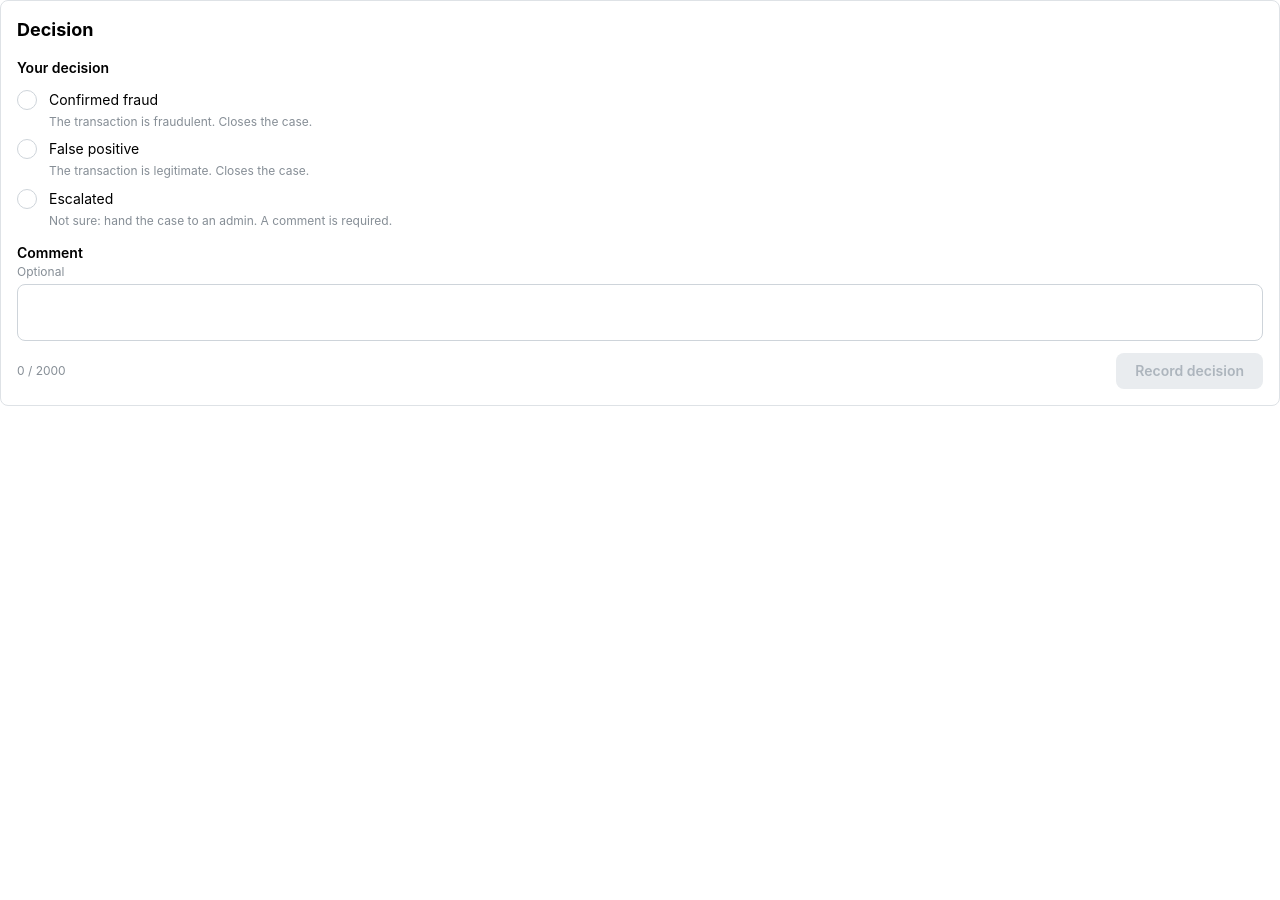
Test: DecisionPanel: recording a decision › asks for confirmation before closing, then sends the decision and comment
The image size is (1280, 900).
Check: the button "Record decision" is disabled, box [1116,353,1263,389]
Click the radio button labelled "Confirmed fraud": (27, 100) [17,90,37,110]
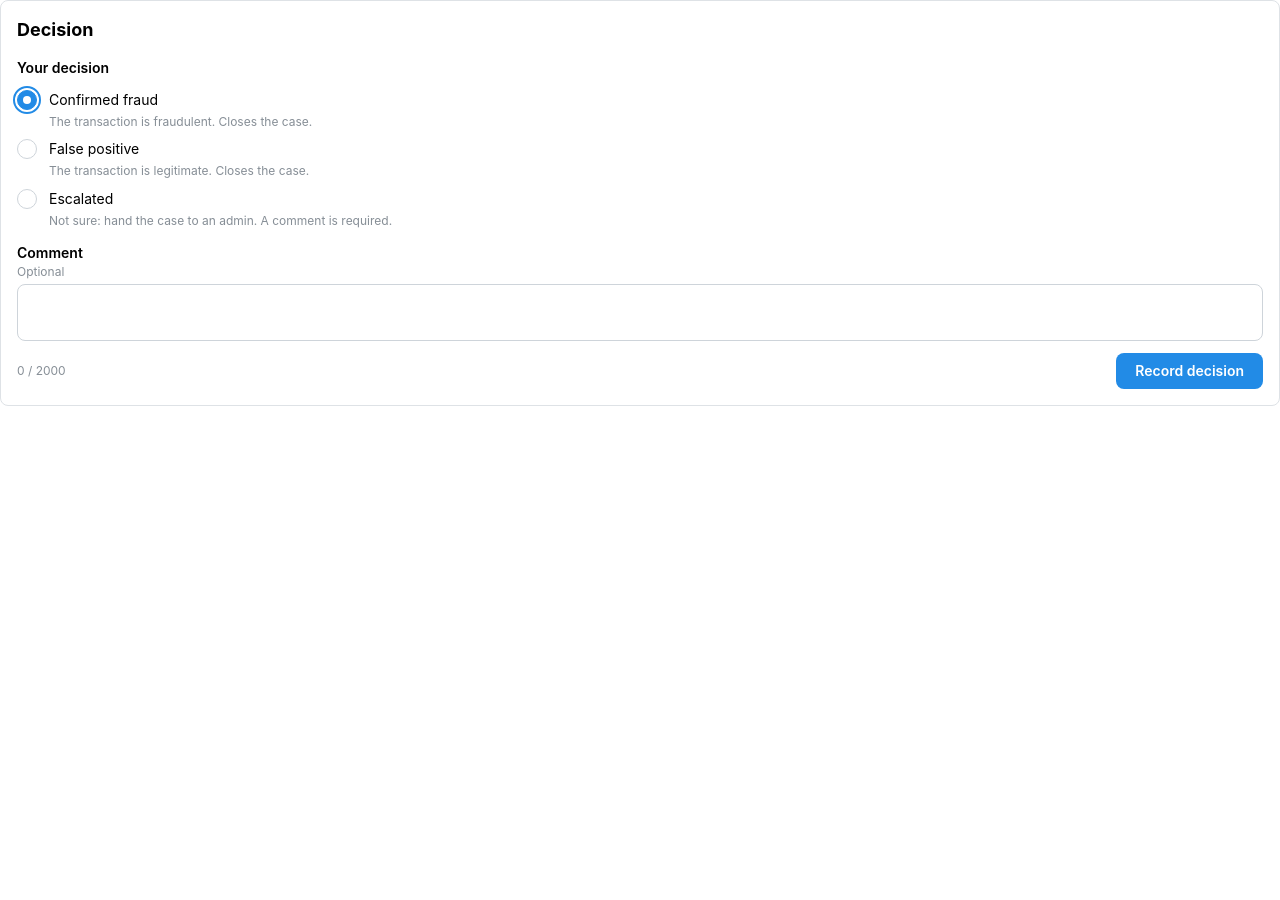
In the text box labelled "Comment": (640, 313) [17,284,1263,341], type "  Card used abroad  "
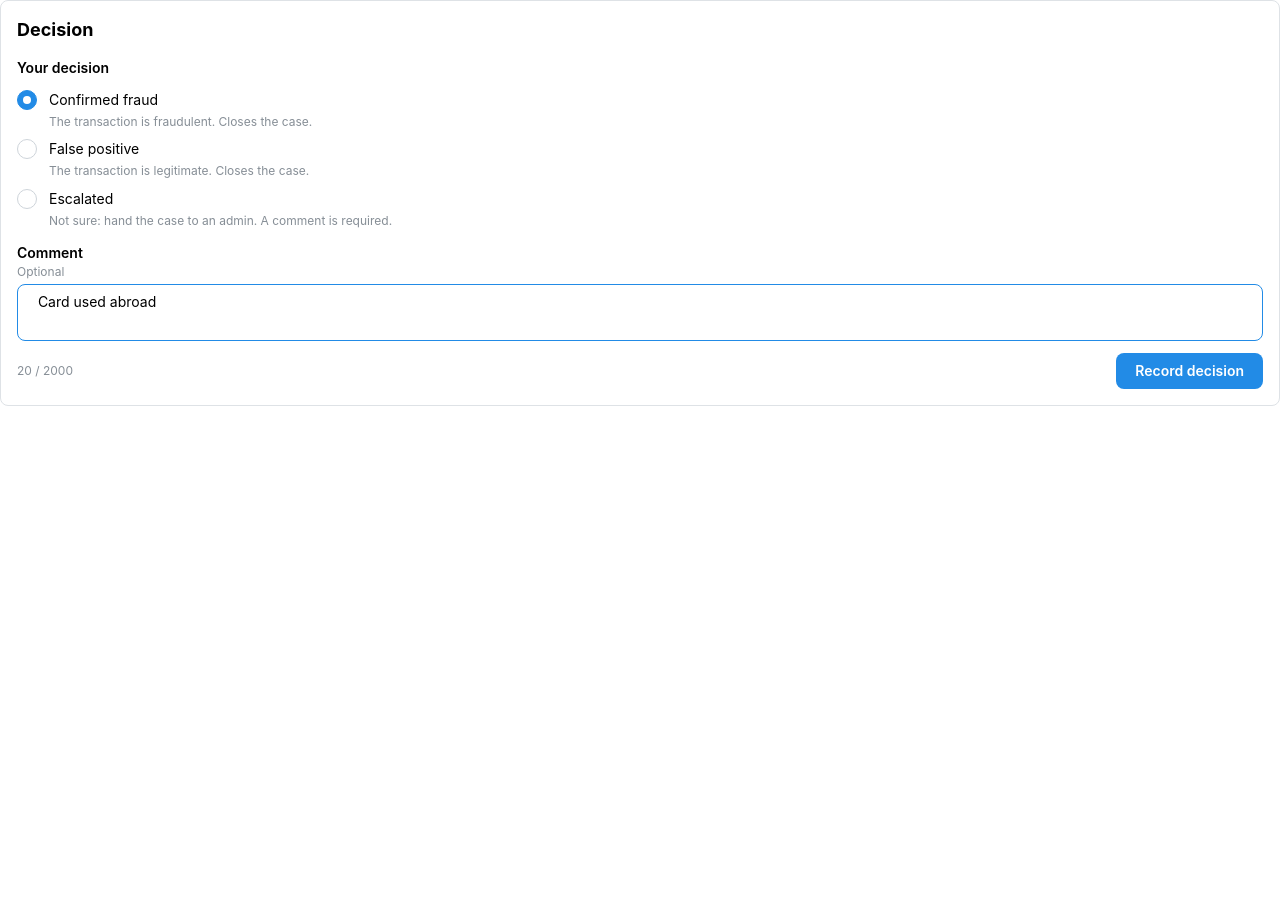
Click the button "Record decision": (1190, 371) [1116,353,1263,389]
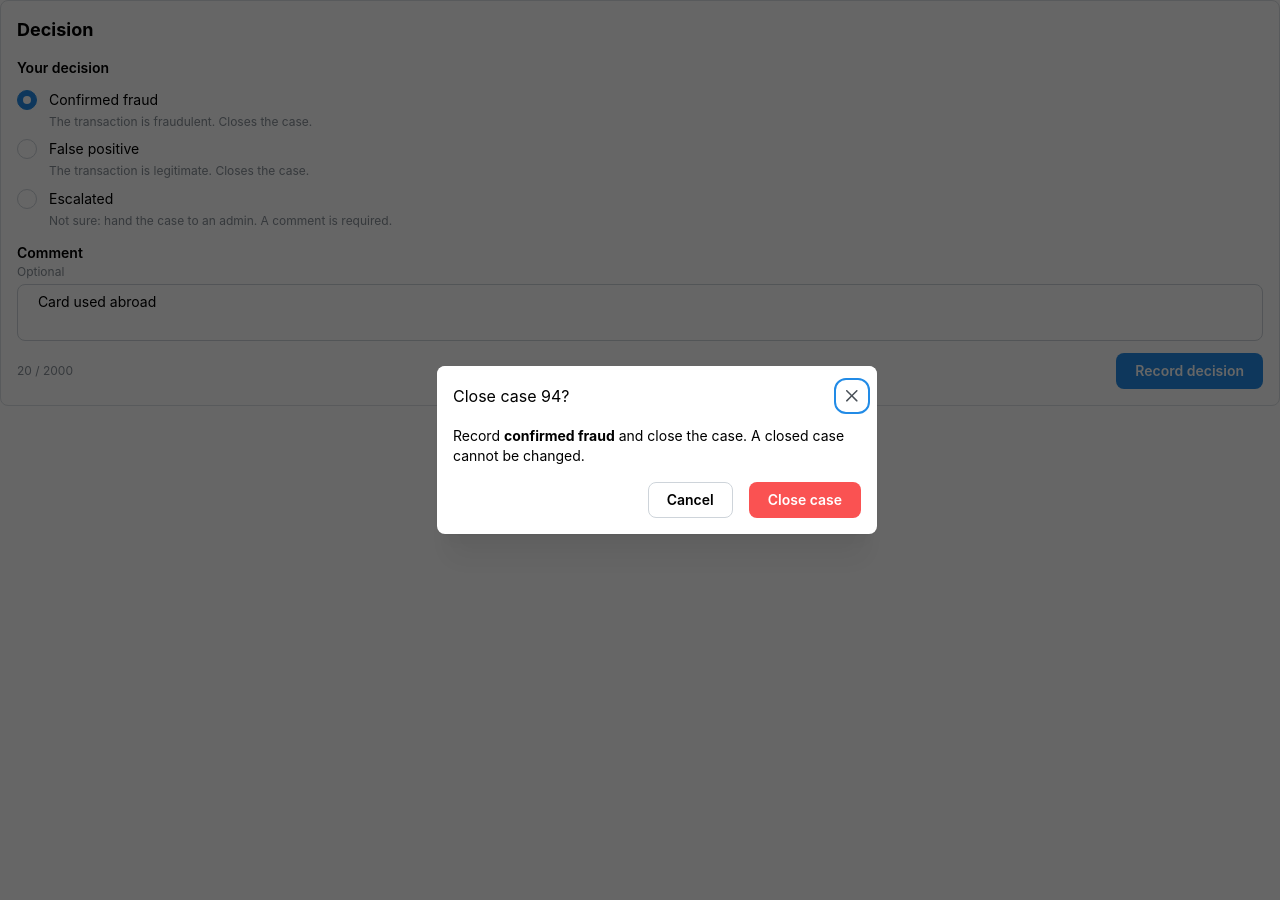
Check: the heading "Close case 94?" is shown, box [453,388,569,404]
Click the button "Close case": (805, 500) [749,482,861,518]
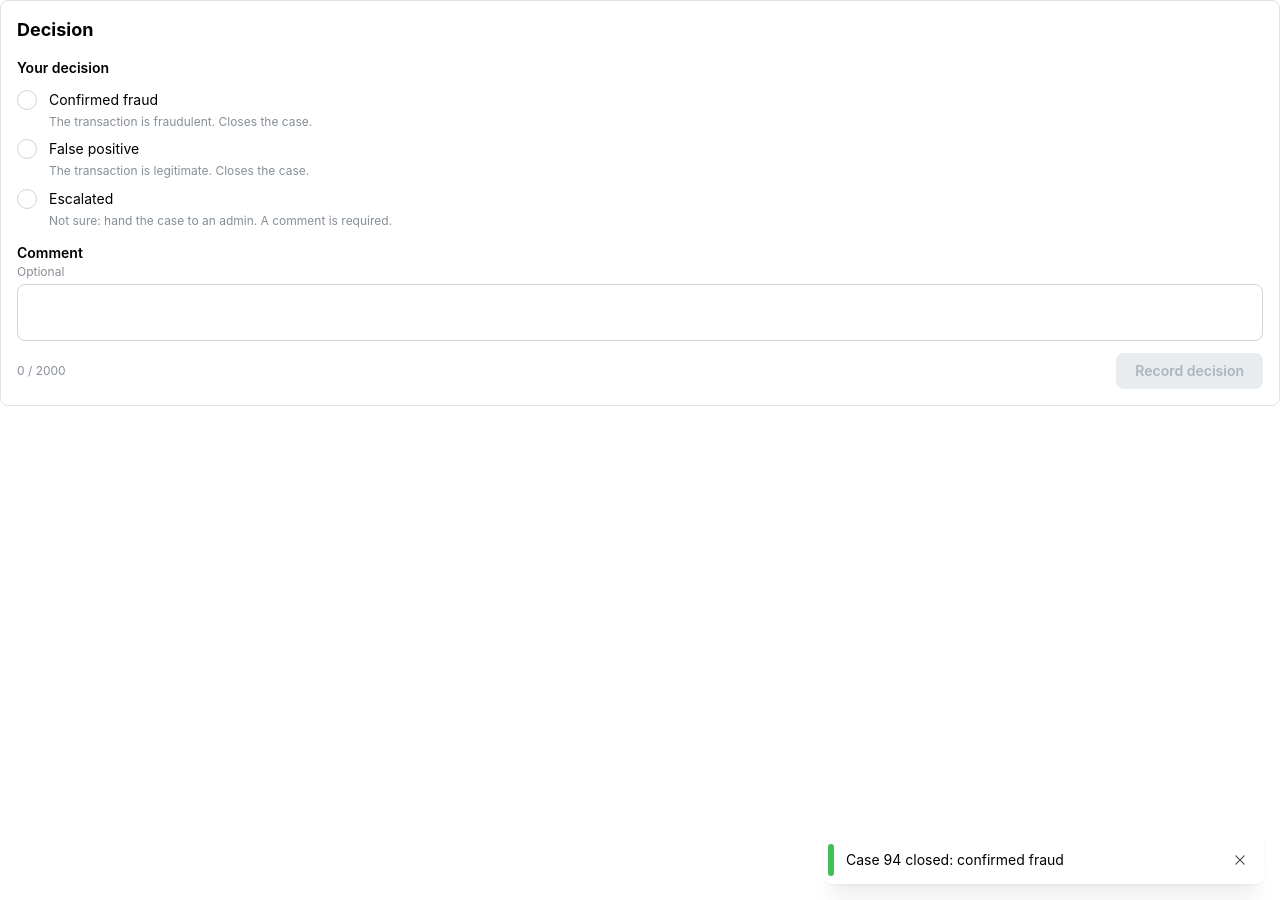
Check: the text "Case 94 closed: confirmed fraud" is shown, box [846,851,1064,868]
